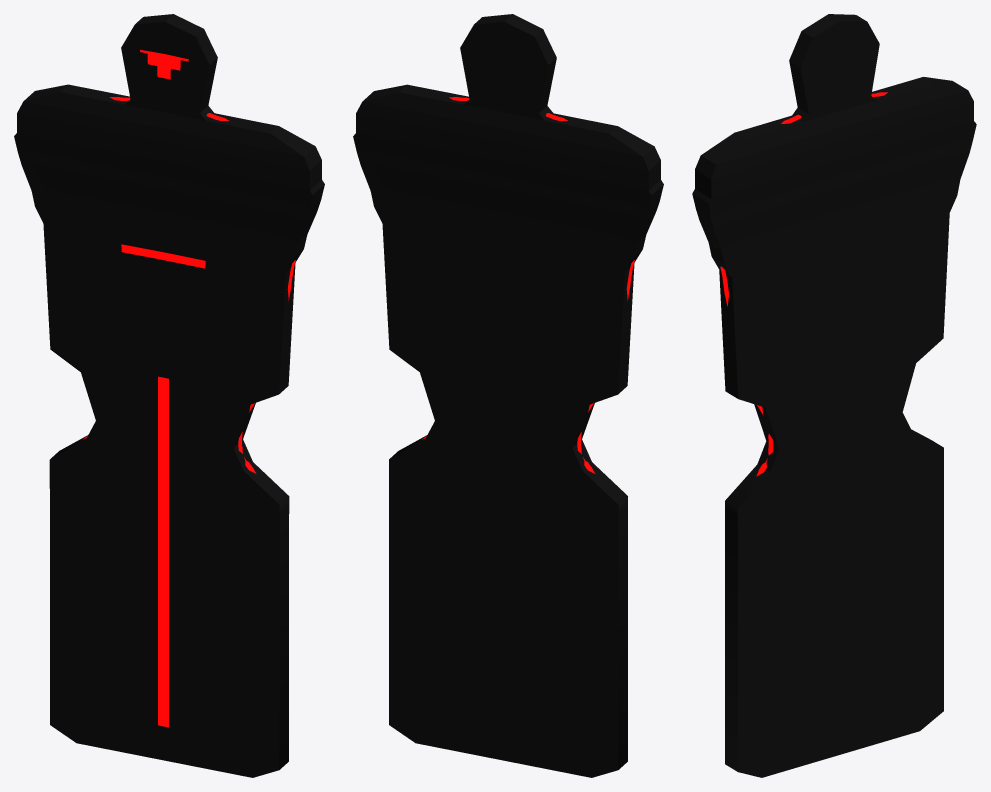
Rendered from TargetDummy_Cyber.FBX.
3 renders of one model, left to right at view 1: azimuth 30°, elevation 25°; view 2: azimuth 210°, elevation 25°; view 3: azimuth 270°, elevation 25°, orthographic.
Visible parts, largest first — view 1: Box006; view 2: Box006; view 3: Box006.
Part boxes in pixels (x1,y1,x2,y2): Box006: (14, 14, 324, 777); Box006: (353, 14, 663, 777); Box006: (692, 14, 976, 777).
Size of the model in its own units: 19.41 by 74.38 by 26.16.
